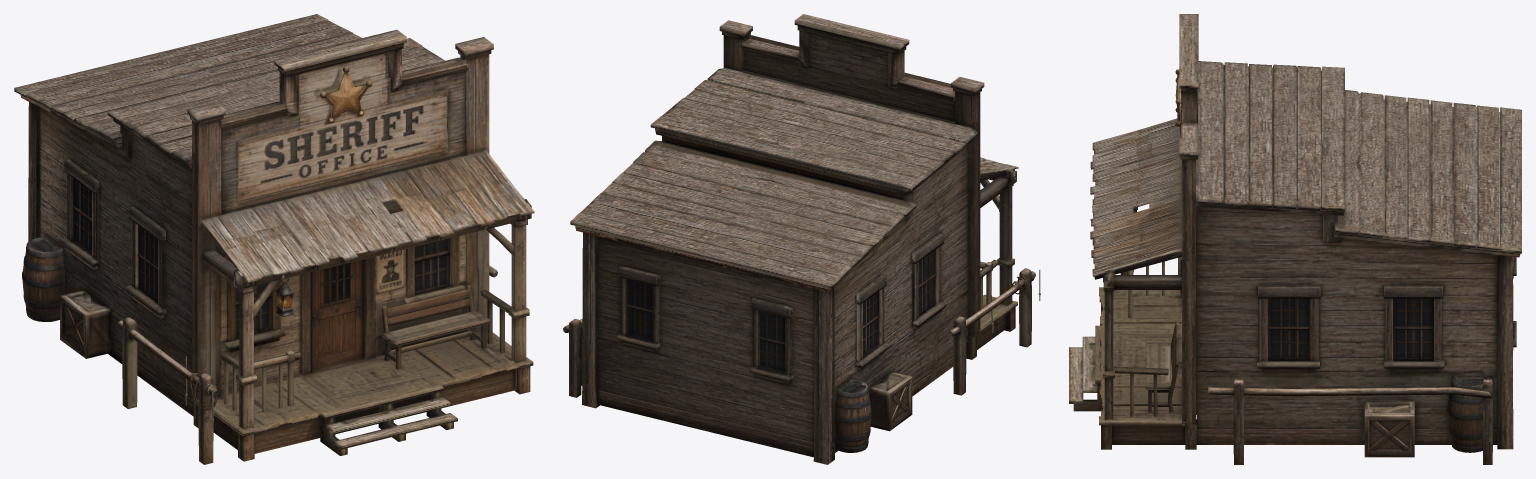
The model's file is sheriff.glb.
3 views of the same model, side by side, from view 1: azimuth 30°, elevation 25°; view 2: azimuth 150°, elevation 25°; view 3: azimuth 270°, elevation 25° (orthographic). The views are drawn at different scales.
Parts seen in each view (by area): view 1: tripo_node_8169c3e1-a5f3-4f8f-a137-54c7141dc105; view 2: tripo_node_8169c3e1-a5f3-4f8f-a137-54c7141dc105; view 3: tripo_node_8169c3e1-a5f3-4f8f-a137-54c7141dc105.
Boxes of the visible parts, x1,y1,x2,y2 form: tripo_node_8169c3e1-a5f3-4f8f-a137-54c7141dc105: (14, 14, 534, 464); tripo_node_8169c3e1-a5f3-4f8f-a137-54c7141dc105: (563, 14, 1040, 464); tripo_node_8169c3e1-a5f3-4f8f-a137-54c7141dc105: (1069, 14, 1521, 464).
Bounding box in the file's own units: 0.8521 × 0.8071 × 0.9995.
1 material, 1 textured.
